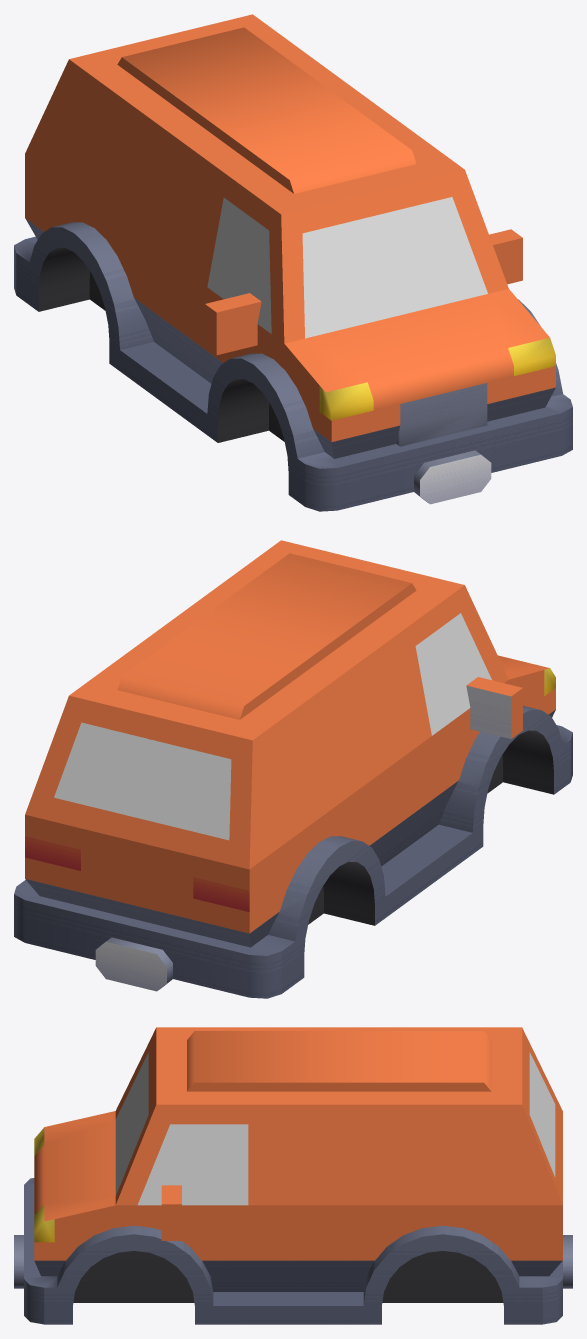
Rendered from vanOrangebody.glb.
The picture shows the model from 3 angles, top to bottom: view 1: azimuth 30°, elevation 25°; view 2: azimuth 150°, elevation 25°; view 3: azimuth 270°, elevation 25°; orthographic projection. The views are drawn at different scales.
Visible parts, largest first — view 1: body, bodyFrontWindow, bodyRightWindow; view 2: body, bodyRearWindow, bodyRightWindow; view 3: body, bodyLeftWindow, bodyFrontWindow, bodyRearWindow.
Boxes of the visible parts, bbox=[...] form: body: bbox=[14, 14, 572, 511]; bodyFrontWindow: bbox=[302, 197, 487, 338]; bodyRightWindow: bbox=[207, 197, 271, 333]; body: bbox=[14, 540, 572, 998]; bodyRearWindow: bbox=[54, 722, 231, 840]; bodyRightWindow: bbox=[415, 613, 491, 735]; body: bbox=[14, 1027, 572, 1324]; bodyLeftWindow: bbox=[138, 1124, 248, 1205]; bodyFrontWindow: bbox=[115, 1052, 148, 1195]; bodyRearWindow: bbox=[529, 1052, 555, 1177].
Bounding box in the file's own units: 1.5 × 1.2 × 2.75.
Materials: 2 (1 with a texture image).
